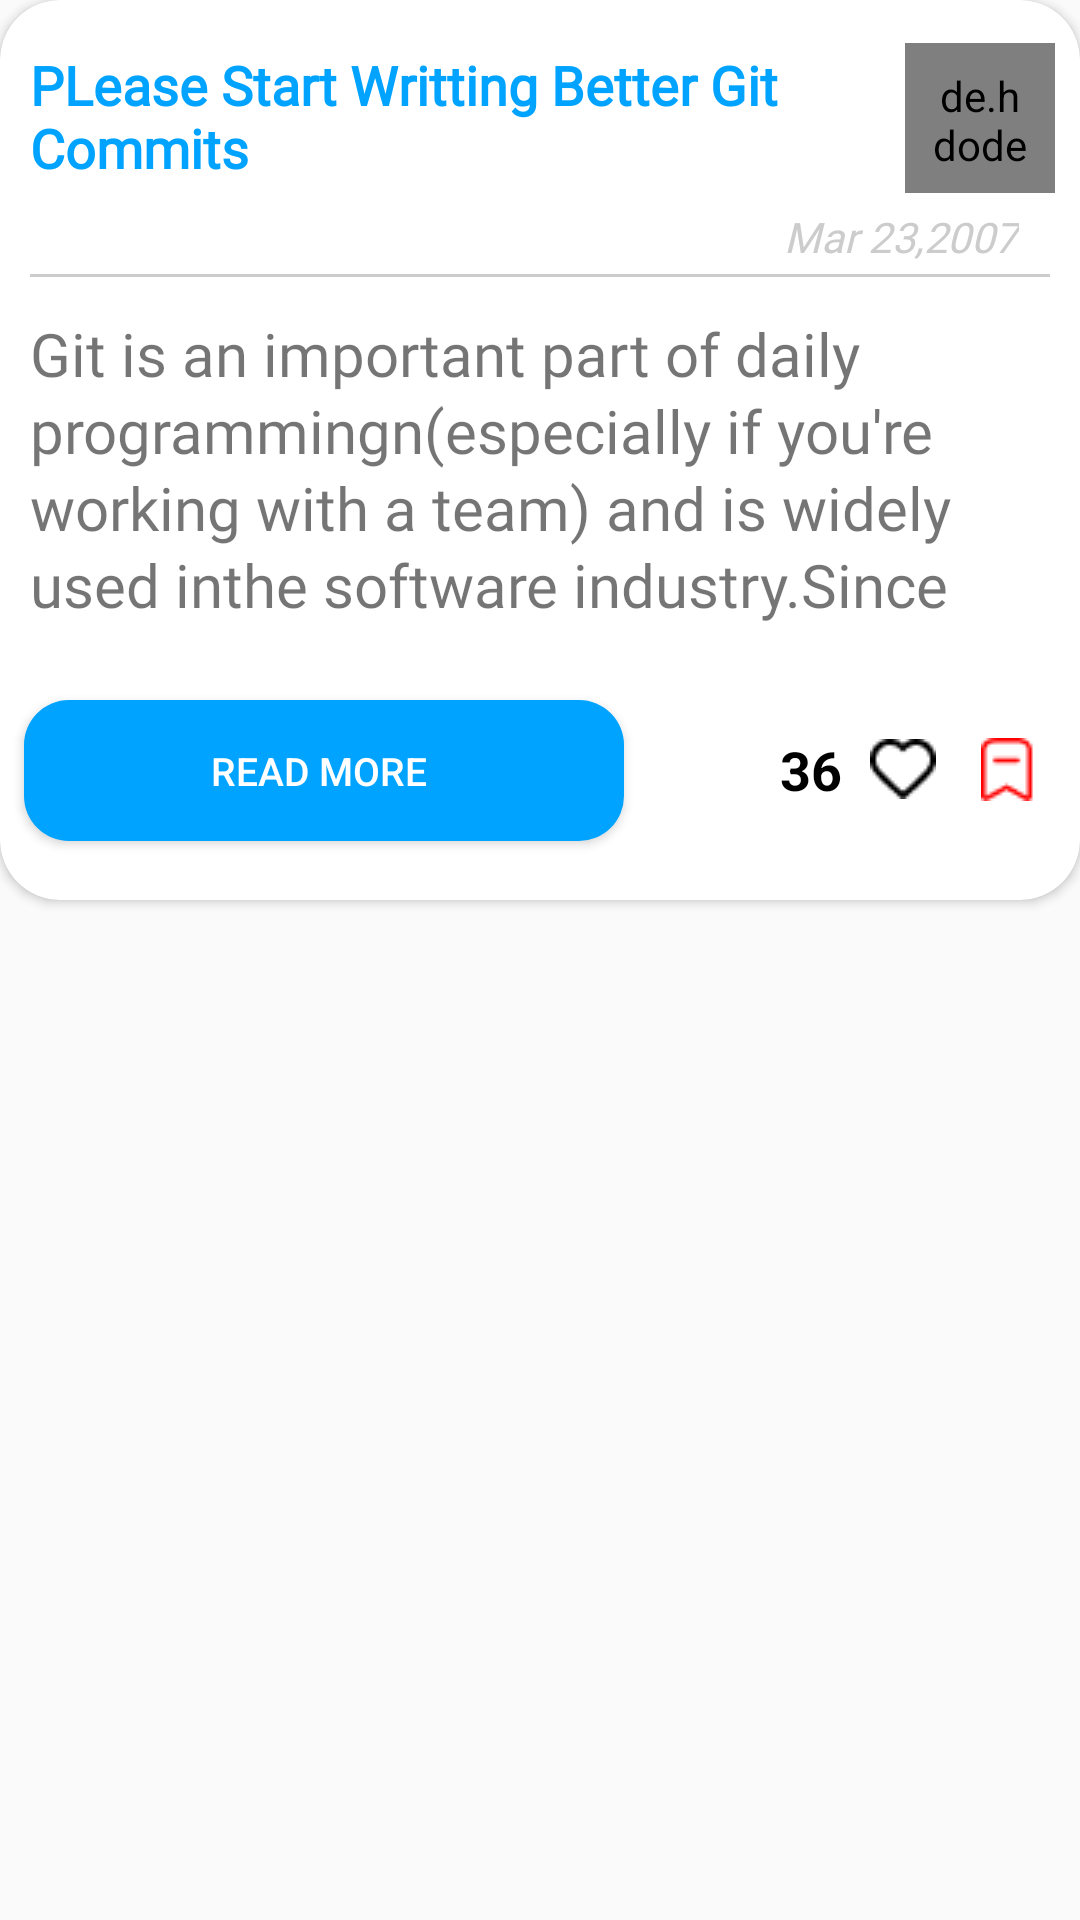

Where icons sit on this 1080 x 1920 app screen, as (x1, y1, x2, y2):
save: (981, 738, 1033, 801)
